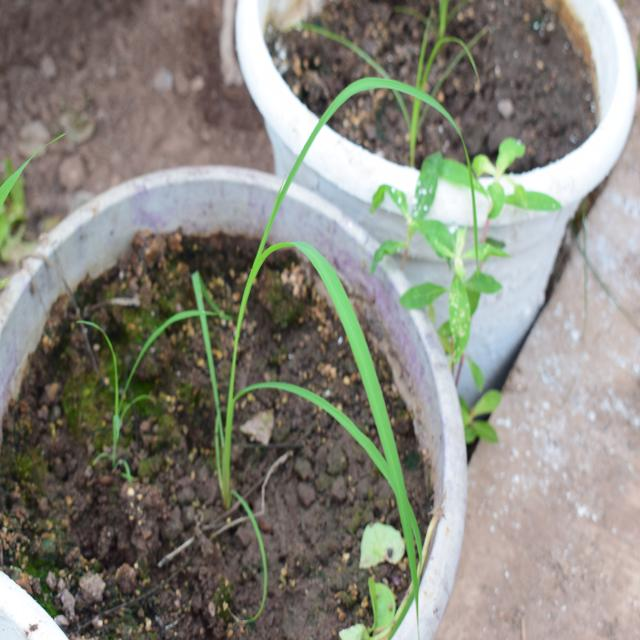barnyard_grass: (198, 64, 439, 567)
